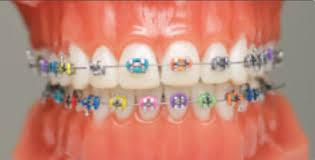Braces: (32, 46, 295, 112)
